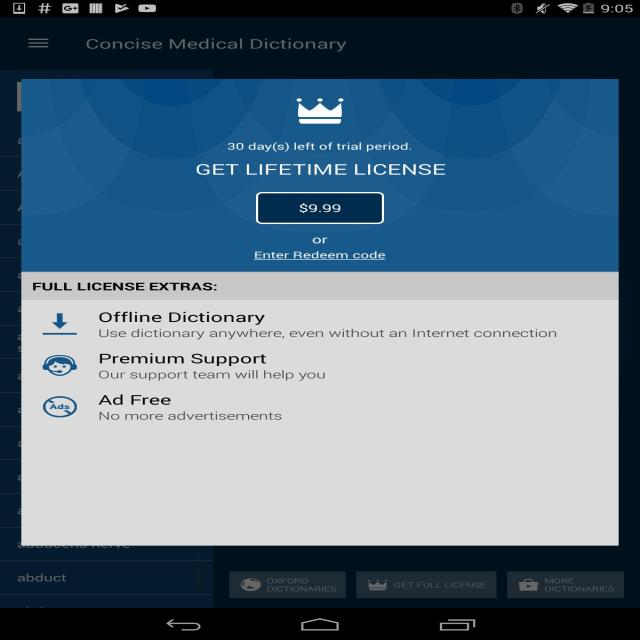button: (25, 299, 614, 347), (25, 348, 612, 384), (24, 390, 613, 425), (256, 193, 383, 224), (227, 570, 347, 598), (360, 574, 497, 598), (507, 572, 623, 598), (23, 34, 56, 52)
heading: (188, 160, 454, 180), (83, 38, 352, 55), (32, 280, 218, 294)
image: (292, 95, 348, 127), (42, 309, 80, 336), (43, 353, 78, 379), (43, 394, 78, 418)
link: (254, 250, 388, 262)
text: (92, 309, 560, 342), (98, 352, 329, 381), (97, 392, 285, 422), (223, 142, 415, 154), (15, 574, 76, 586), (312, 235, 330, 246)
